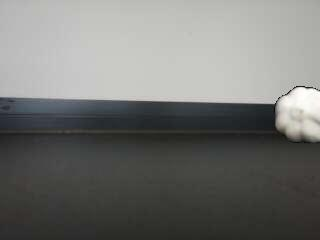Potato: (274, 84, 320, 144)
